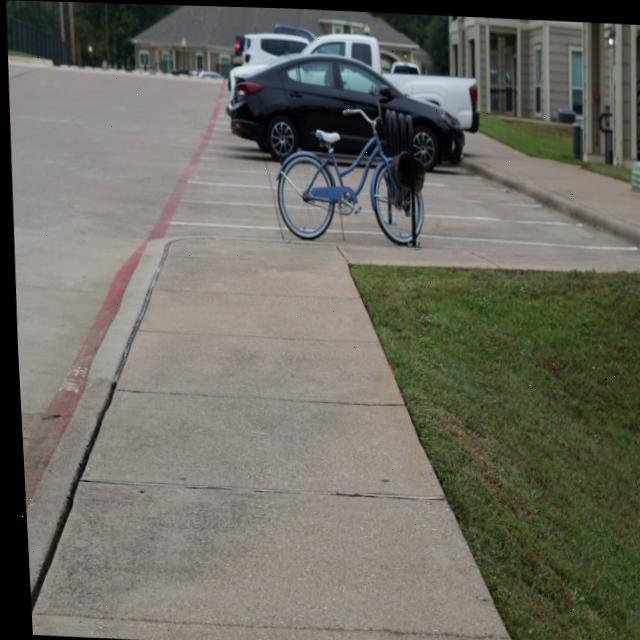Automobile: (226, 22, 477, 168)
Obstacle: (274, 107, 423, 243), (629, 156, 640, 188)
Road: (7, 65, 289, 499), (416, 165, 628, 244), (320, 175, 384, 241)
Sidewalk: (21, 232, 640, 640), (463, 130, 640, 231)
